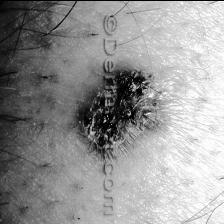Potentially Malignant Skin Tumors: (115, 58, 167, 146)
